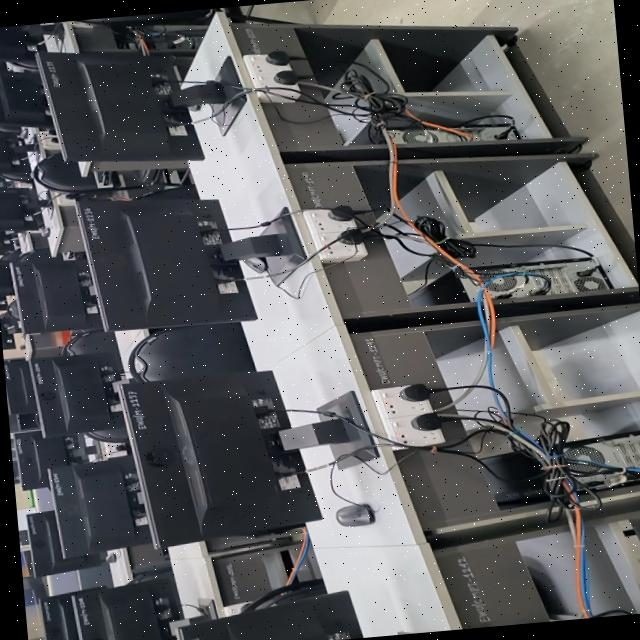Chair: (127, 323, 253, 381), (31, 153, 178, 198), (68, 8, 218, 26)
Cpu: (481, 258, 606, 297), (562, 434, 640, 483), (388, 126, 514, 144)
Monitor: (119, 371, 320, 547), (77, 198, 256, 331), (38, 51, 202, 167), (47, 455, 150, 558), (177, 591, 361, 640), (30, 352, 125, 442), (9, 250, 100, 334), (72, 571, 180, 640), (25, 510, 103, 577), (38, 587, 103, 640), (15, 431, 69, 490), (0, 70, 52, 131), (0, 188, 45, 232), (2, 359, 35, 415), (0, 25, 40, 67), (0, 132, 29, 182), (0, 260, 12, 295), (0, 318, 11, 344)
Mouse: (335, 504, 373, 527), (241, 258, 266, 274), (36, 227, 48, 237)
